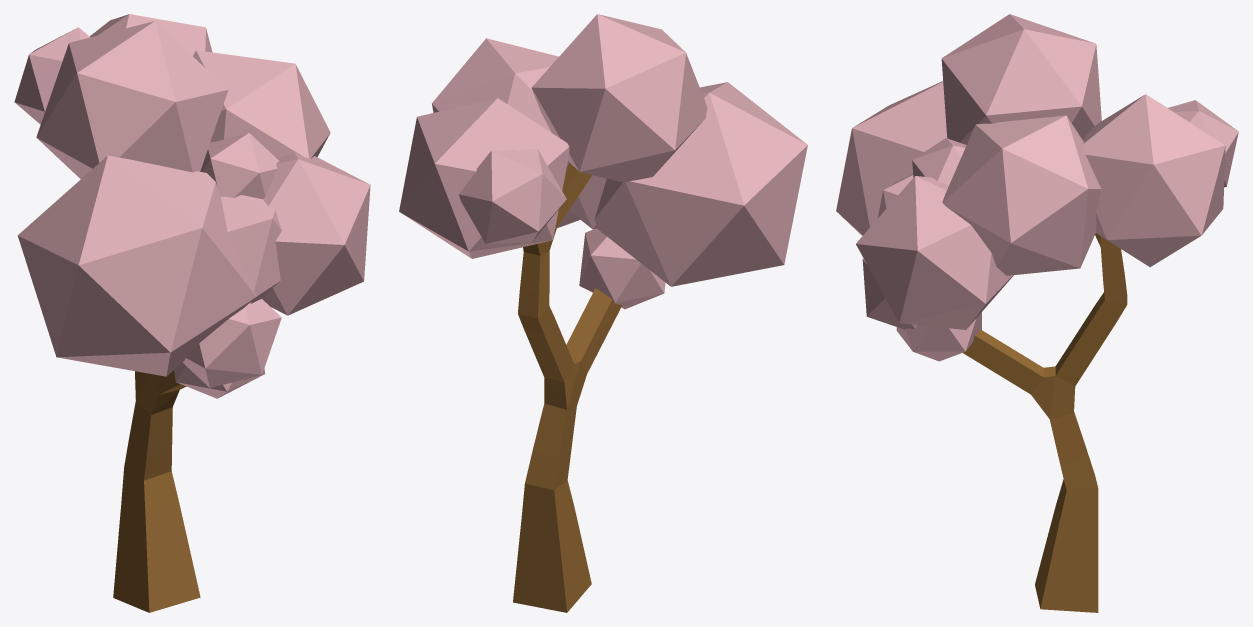
Rendered from Pink Tree.fbx.
3 renders of one model, left to right at view 1: azimuth 30°, elevation 25°; view 2: azimuth 150°, elevation 25°; view 3: azimuth 270°, elevation 25°, orthographic. The views are drawn at different scales.
Parts seen in each view (by area): view 1: Pink Tree; view 2: Pink Tree; view 3: Pink Tree.
Part boxes in pixels (box(x1,y1,x2,y2)): Pink Tree: box(14, 14, 370, 612); Pink Tree: box(399, 14, 807, 612); Pink Tree: box(836, 14, 1238, 612).
Bounding box in the file's own units: 538 × 975 × 634.
